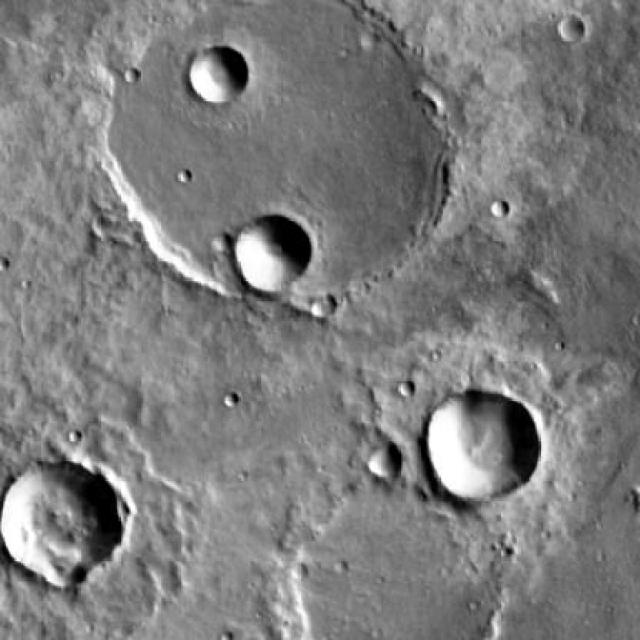crater: (108, 0, 450, 317), (278, 483, 497, 640), (2, 467, 124, 588), (426, 387, 540, 498), (232, 216, 308, 290), (189, 45, 246, 100), (366, 444, 402, 479), (560, 18, 586, 42), (312, 294, 334, 314), (209, 233, 231, 253), (490, 200, 507, 217), (401, 383, 416, 399)
